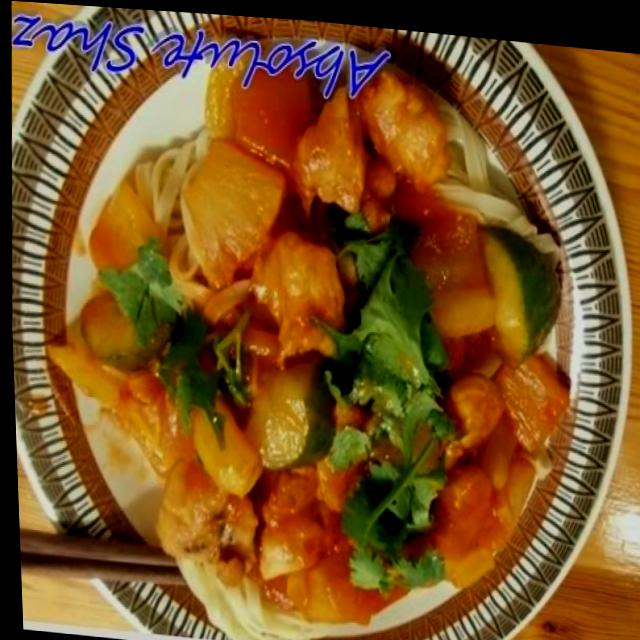鸡肉料理 含炸鸡: (0, 15, 640, 640)
